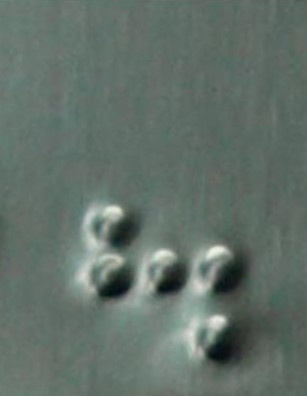Braille: (143, 202, 248, 361), (31, 201, 135, 356)
